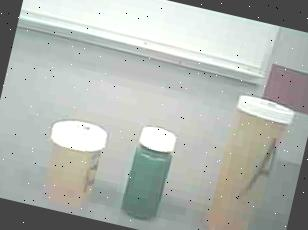Bottle A: (195, 87, 302, 230)
Bottle B: (31, 108, 121, 215)
Bottle C: (118, 117, 188, 225)
